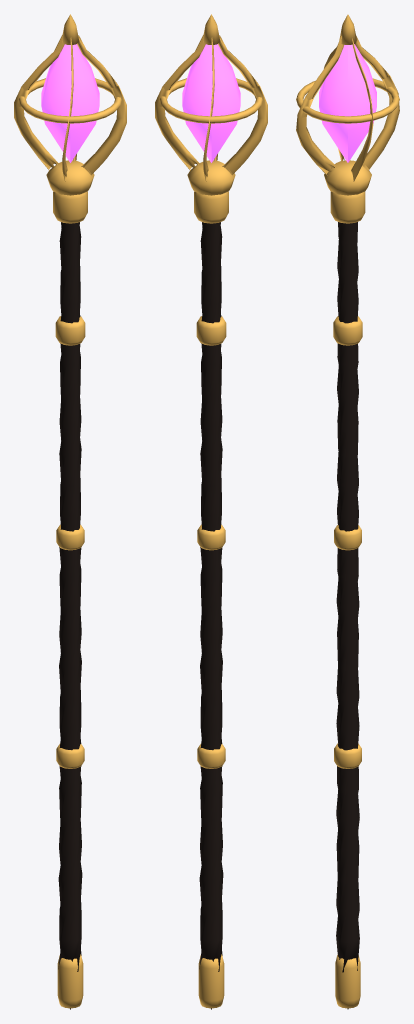
File: mm6_pmn2_artifact_staff.glb
3 views of the same model, side by side, from view 1: azimuth 30°, elevation 25°; view 2: azimuth 210°, elevation 25°; view 3: azimuth 330°, elevation 25° (orthographic).
Visible parts, largest first — view 1: ArtifactStaff; view 2: ArtifactStaff; view 3: ArtifactStaff.
Part boxes in pixels (bbox=[...]): ArtifactStaff: bbox=[14, 14, 126, 1009]; ArtifactStaff: bbox=[155, 14, 267, 1009]; ArtifactStaff: bbox=[296, 14, 399, 1009].
Bounding box in the file's own units: 0.155 × 1.64 × 0.155.
